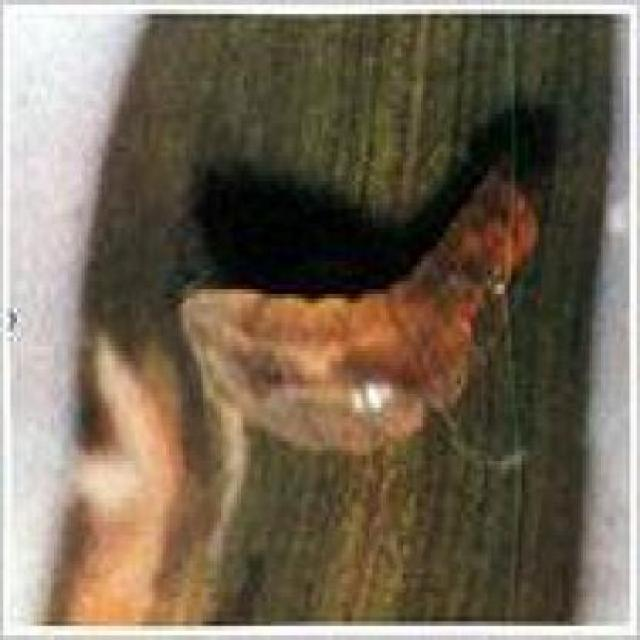whorl-maggot: (178, 164, 542, 450)
